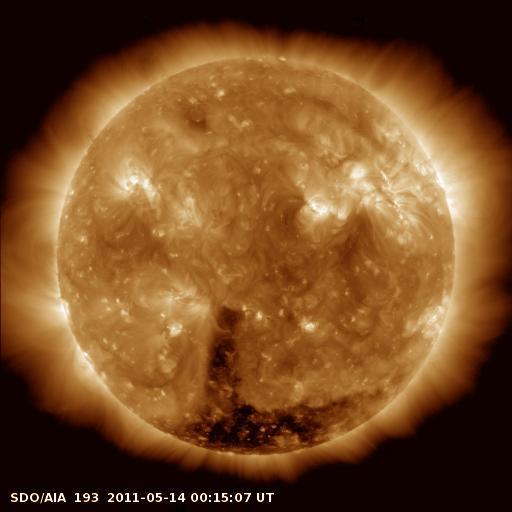coronal_hole: (177, 307, 379, 459)
